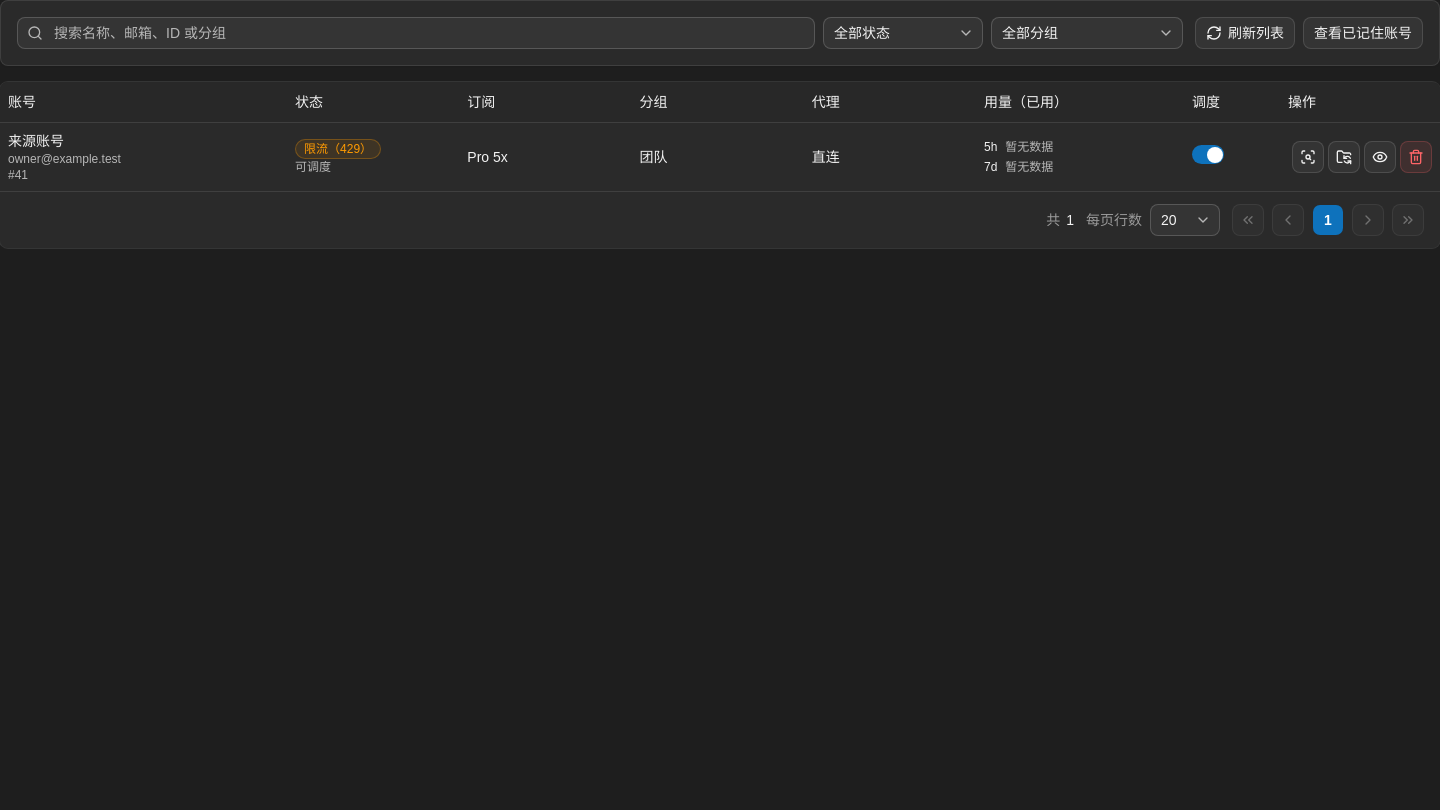
Test: 账号操作显示智商检测和代理列，已记住账号在可关闭弹窗中展示
Expected: the column heading "代理" is shown, [804, 82, 976, 122]
Expected: the text "限流（429）" is shown, [304, 141, 372, 157]
Click the button "查看已记住账号" at (1363, 33), box [1303, 17, 1423, 49]
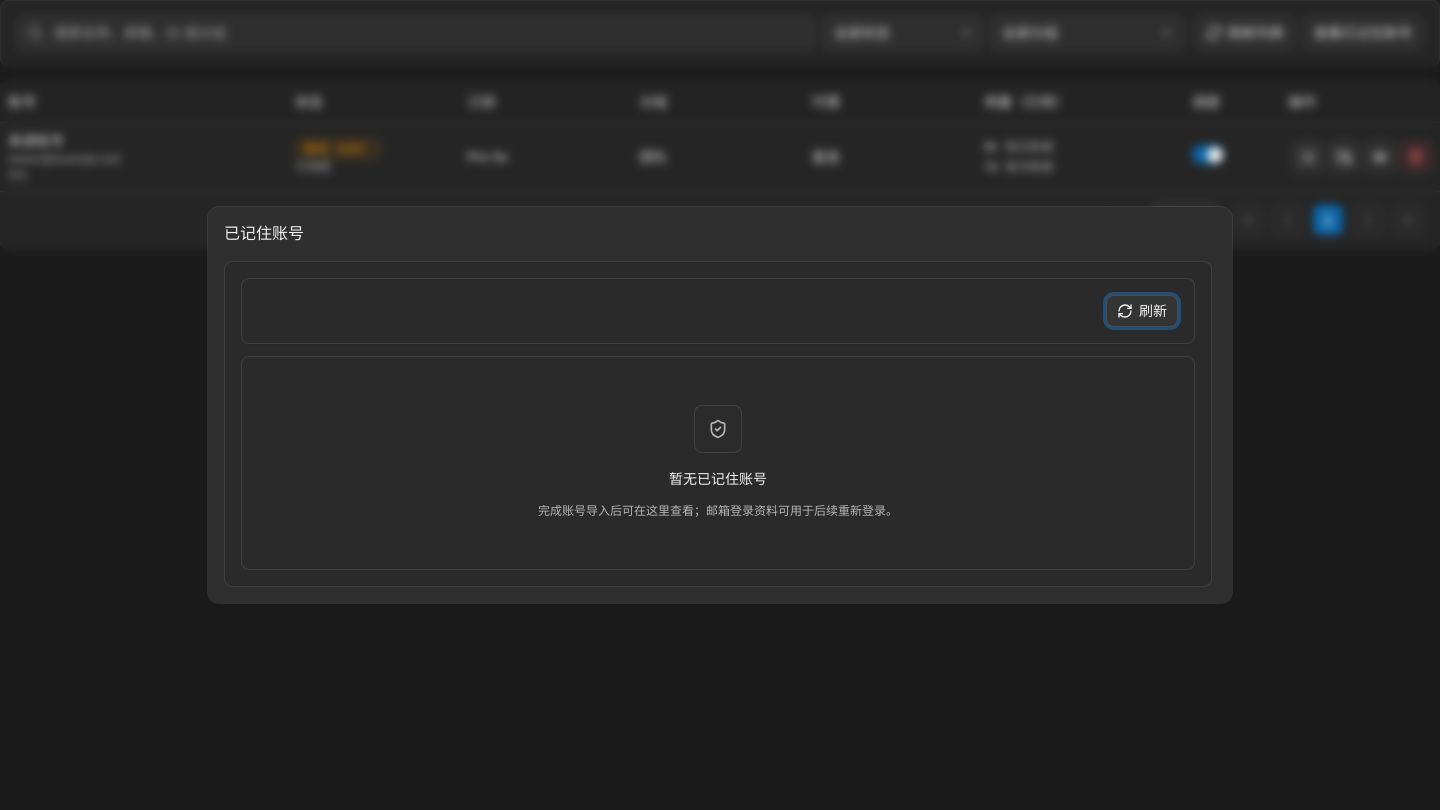
Now the dialog "已记住账号" is shown, box [208, 207, 1232, 603]
Press Escape
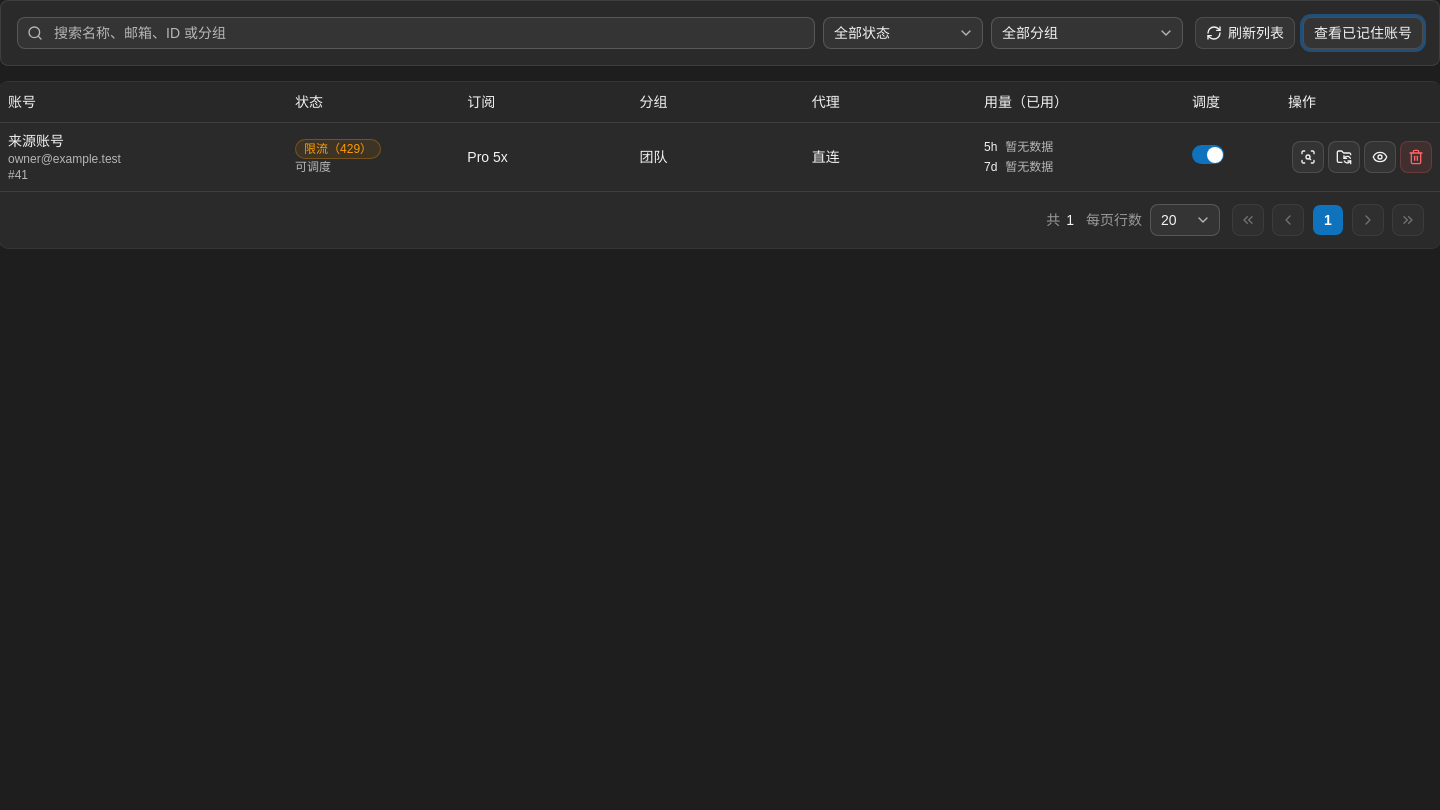
Now the dialog is gone
